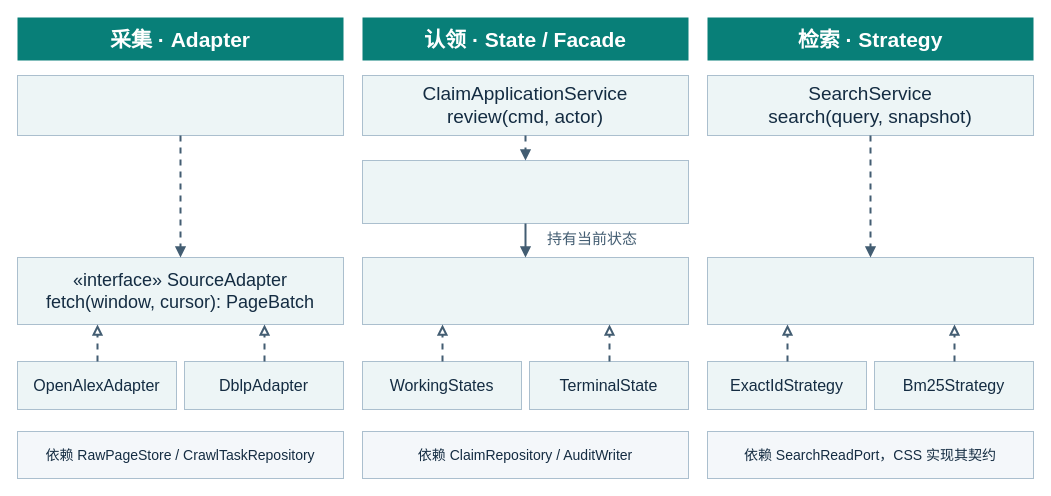
This 1051x496 diagram has some shape labels left out. Here are the shapes that lost their labels. From the top down, the box of each, then its label:
(16, 74, 344, 136): IngestionService run(task, lease)
(362, 160, 688, 224): Claim apply(cmd, actor, now)
(362, 256, 688, 324): «interface» ClaimState transition(cmd, actor, now)
(706, 256, 1034, 324): «interface» SearchStrategy execute(query, snapshot)
